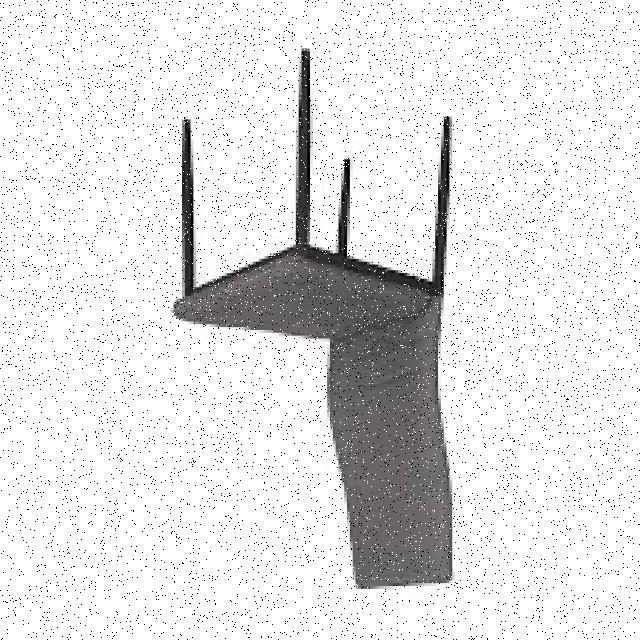bottle: (167, 52, 458, 591)
